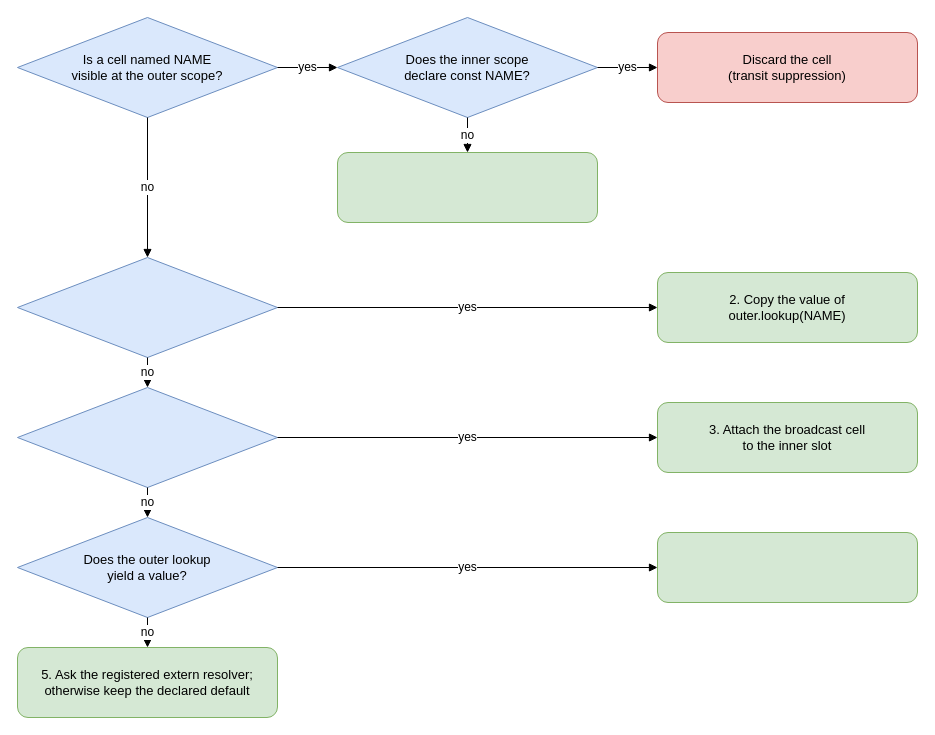
This 935x735 diagram has some shape labels left out. Here are the shapes that lost their labels. From the top down, the centre of each, then its label:
At point 467,187: "1. Attach the shared cell to the inner slot".
At point 147,307: "Is NAME an outer input slot or an outer const output?".
At point 147,437: "Is NAME a computed outer output with a broadcast cell?".
At point 787,567: "4. Copy the value once".
